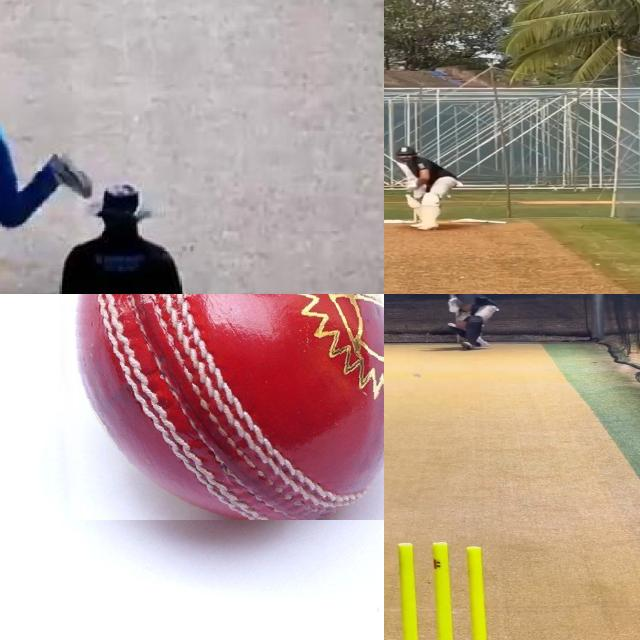Cricket ball: (41, 294, 384, 520), (412, 370, 423, 378)
